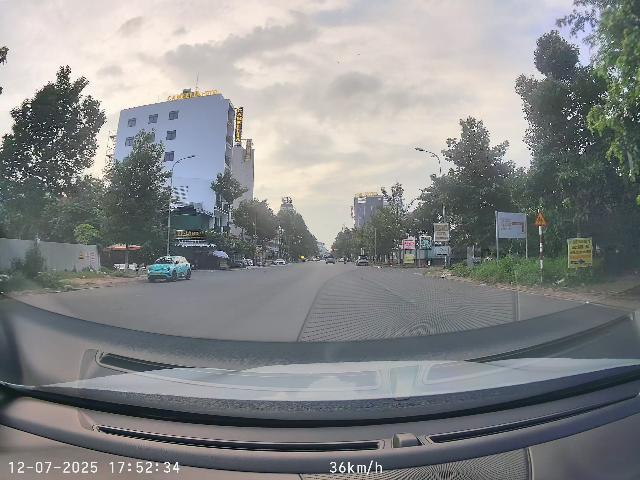225-chu-y-tre-em: (534, 211, 547, 226)
